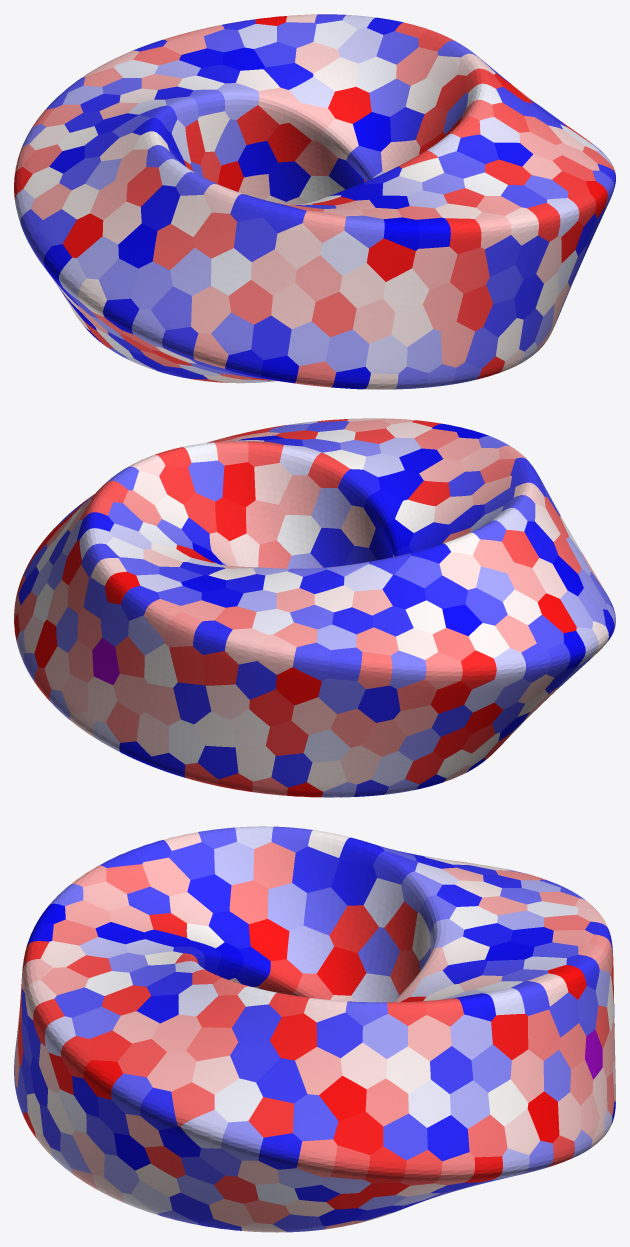
File: Ours_600_mobius1_Iter40_RVD.obj
The picture shows the model from 3 angles, top to bottom: view 1: azimuth 30°, elevation 25°; view 2: azimuth 150°, elevation 25°; view 3: azimuth 270°, elevation 25°; orthographic projection. The views are drawn at different scales.
Parts seen in each view (by area): view 1: 3D_Object; view 2: 3D_Object; view 3: 3D_Object.
Boxes of the visible parts, box(x1,y1,x2,y2) form: 3D_Object: box(14, 14, 615, 389); 3D_Object: box(14, 418, 615, 797); 3D_Object: box(14, 826, 615, 1232).
Size of the model in its own units: 6.8 by 2.63 by 6.26.
1 material, 1 textured.
